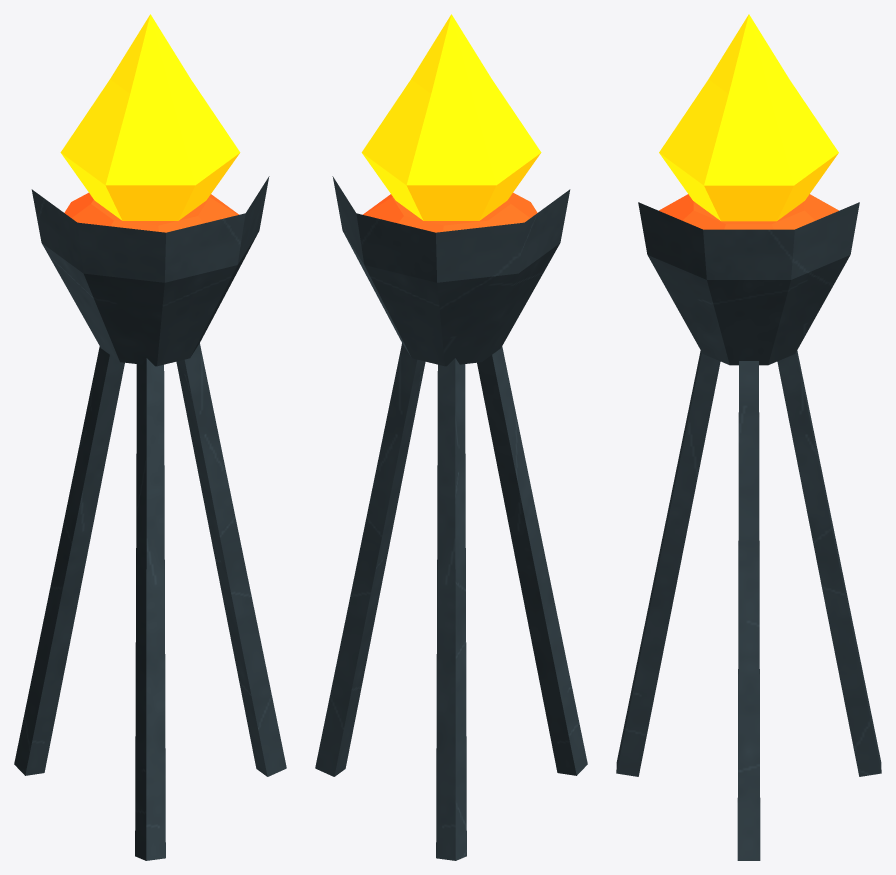
The model's file is torch.glb.
The picture shows the model from 3 angles, left to right: view 1: azimuth 30°, elevation 25°; view 2: azimuth 150°, elevation 25°; view 3: azimuth 270°, elevation 25°; orthographic projection.
Parts seen in each view (by area): view 1: base_mesh, flame_0_mesh; view 2: base_mesh, flame_0_mesh; view 3: base_mesh, flame_0_mesh.
Boxes of the visible parts, bbox=[...] form: base_mesh: bbox=[14, 176, 286, 860]; flame_0_mesh: bbox=[60, 14, 240, 220]; base_mesh: bbox=[315, 176, 587, 860]; flame_0_mesh: bbox=[361, 14, 541, 220]; base_mesh: bbox=[616, 194, 881, 860]; flame_0_mesh: bbox=[659, 14, 838, 221].
Bounding box in the file's own units: 0.262 × 0.869 × 0.2652.
4 materials, 1 textured.
